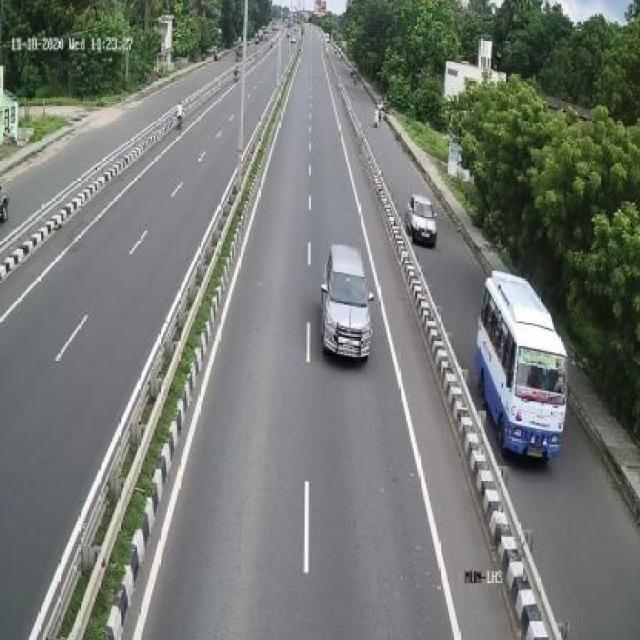car: (320, 237, 374, 365), (408, 191, 440, 246)
